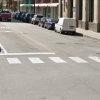Crosswalk: (8, 45, 99, 74)
